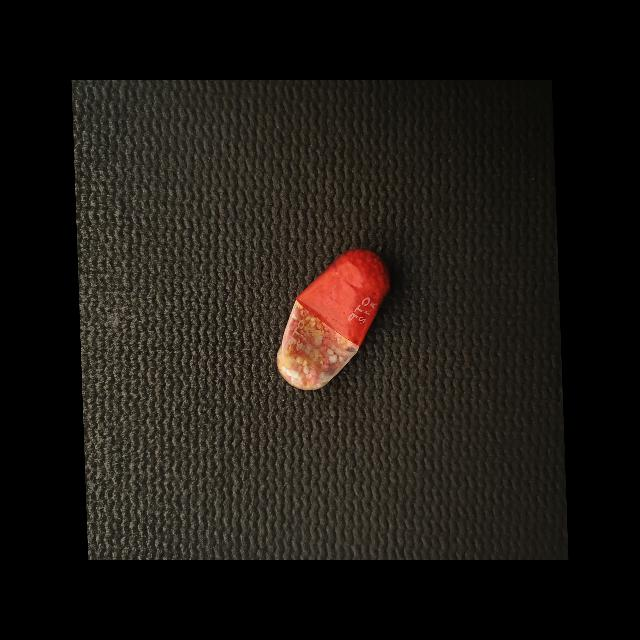Defective Capsule: (277, 249, 390, 390)
